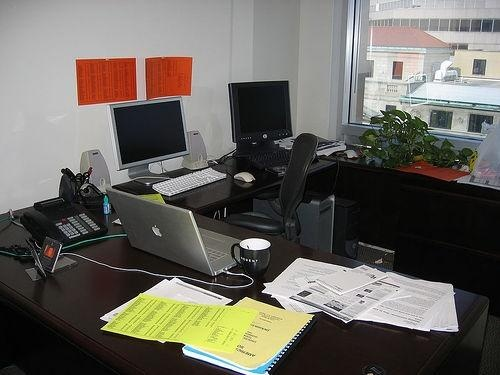pottedplant: (355, 109, 475, 171)
tvmonitor: (106, 96, 192, 188), (221, 80, 295, 157)
